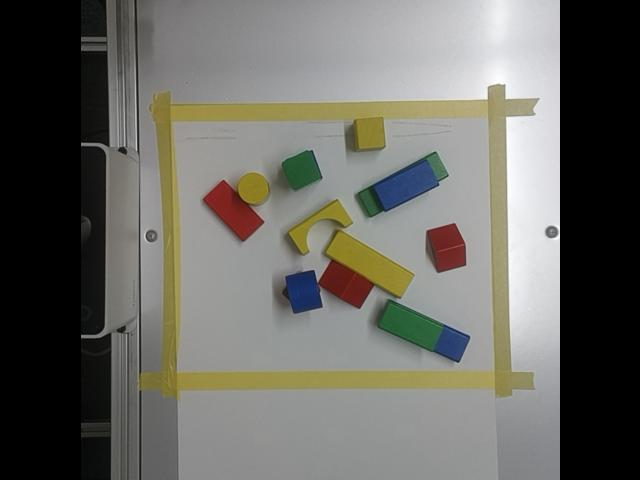blue_rect: (371, 160, 438, 212)
cylinder: (237, 174, 268, 206)
green_cube: (281, 151, 321, 191)
green_rect: (377, 301, 441, 351)
half_cylinder: (283, 271, 321, 314)
red_rect: (203, 181, 263, 241)
triangle: (318, 261, 372, 308), (426, 224, 465, 272)
yellow_archrect: (287, 200, 352, 255)
yellow_cube: (354, 118, 384, 151)
yellow_longrect: (325, 231, 413, 297)
